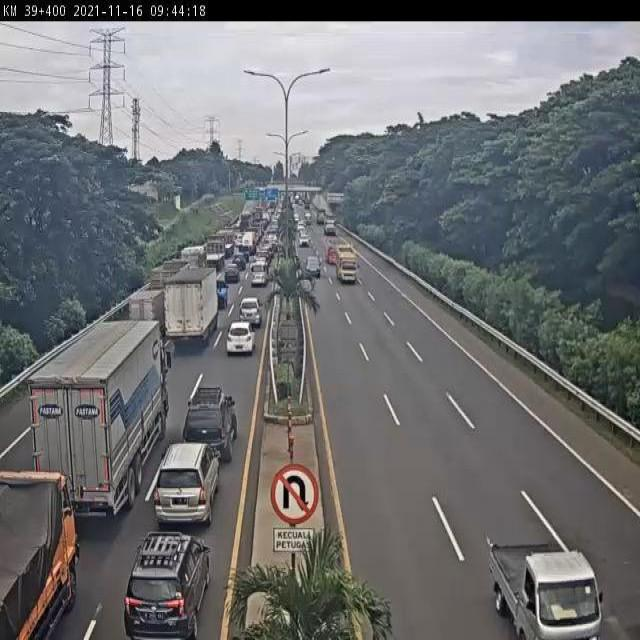car: (487, 533, 603, 640), (123, 530, 212, 640), (154, 442, 223, 522), (182, 382, 239, 462), (227, 318, 256, 354), (239, 299, 263, 332), (303, 253, 321, 276), (299, 233, 309, 246), (297, 218, 306, 230), (293, 212, 301, 221)
small truck: (334, 241, 361, 284), (324, 212, 337, 235), (325, 240, 336, 263), (303, 208, 313, 224), (316, 208, 324, 224)
truck-l-: (30, 316, 173, 521), (202, 235, 226, 272)
truck-m-: (0, 465, 84, 640), (165, 266, 219, 342), (127, 288, 168, 348), (180, 246, 208, 286)
